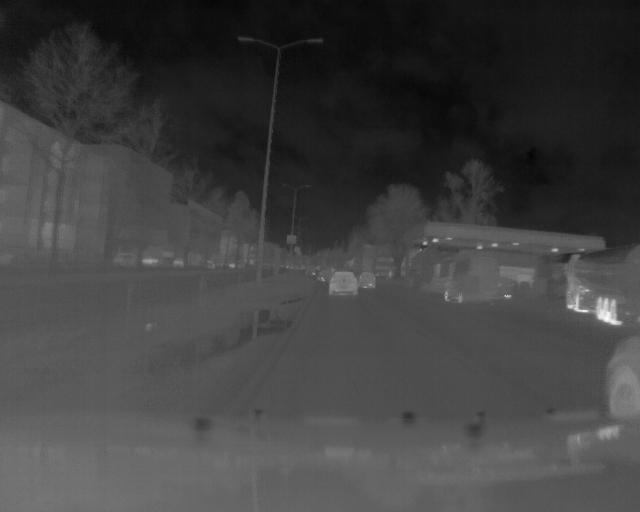car: (563, 247, 639, 324), (440, 253, 503, 306), (327, 269, 359, 300), (359, 270, 378, 291)
